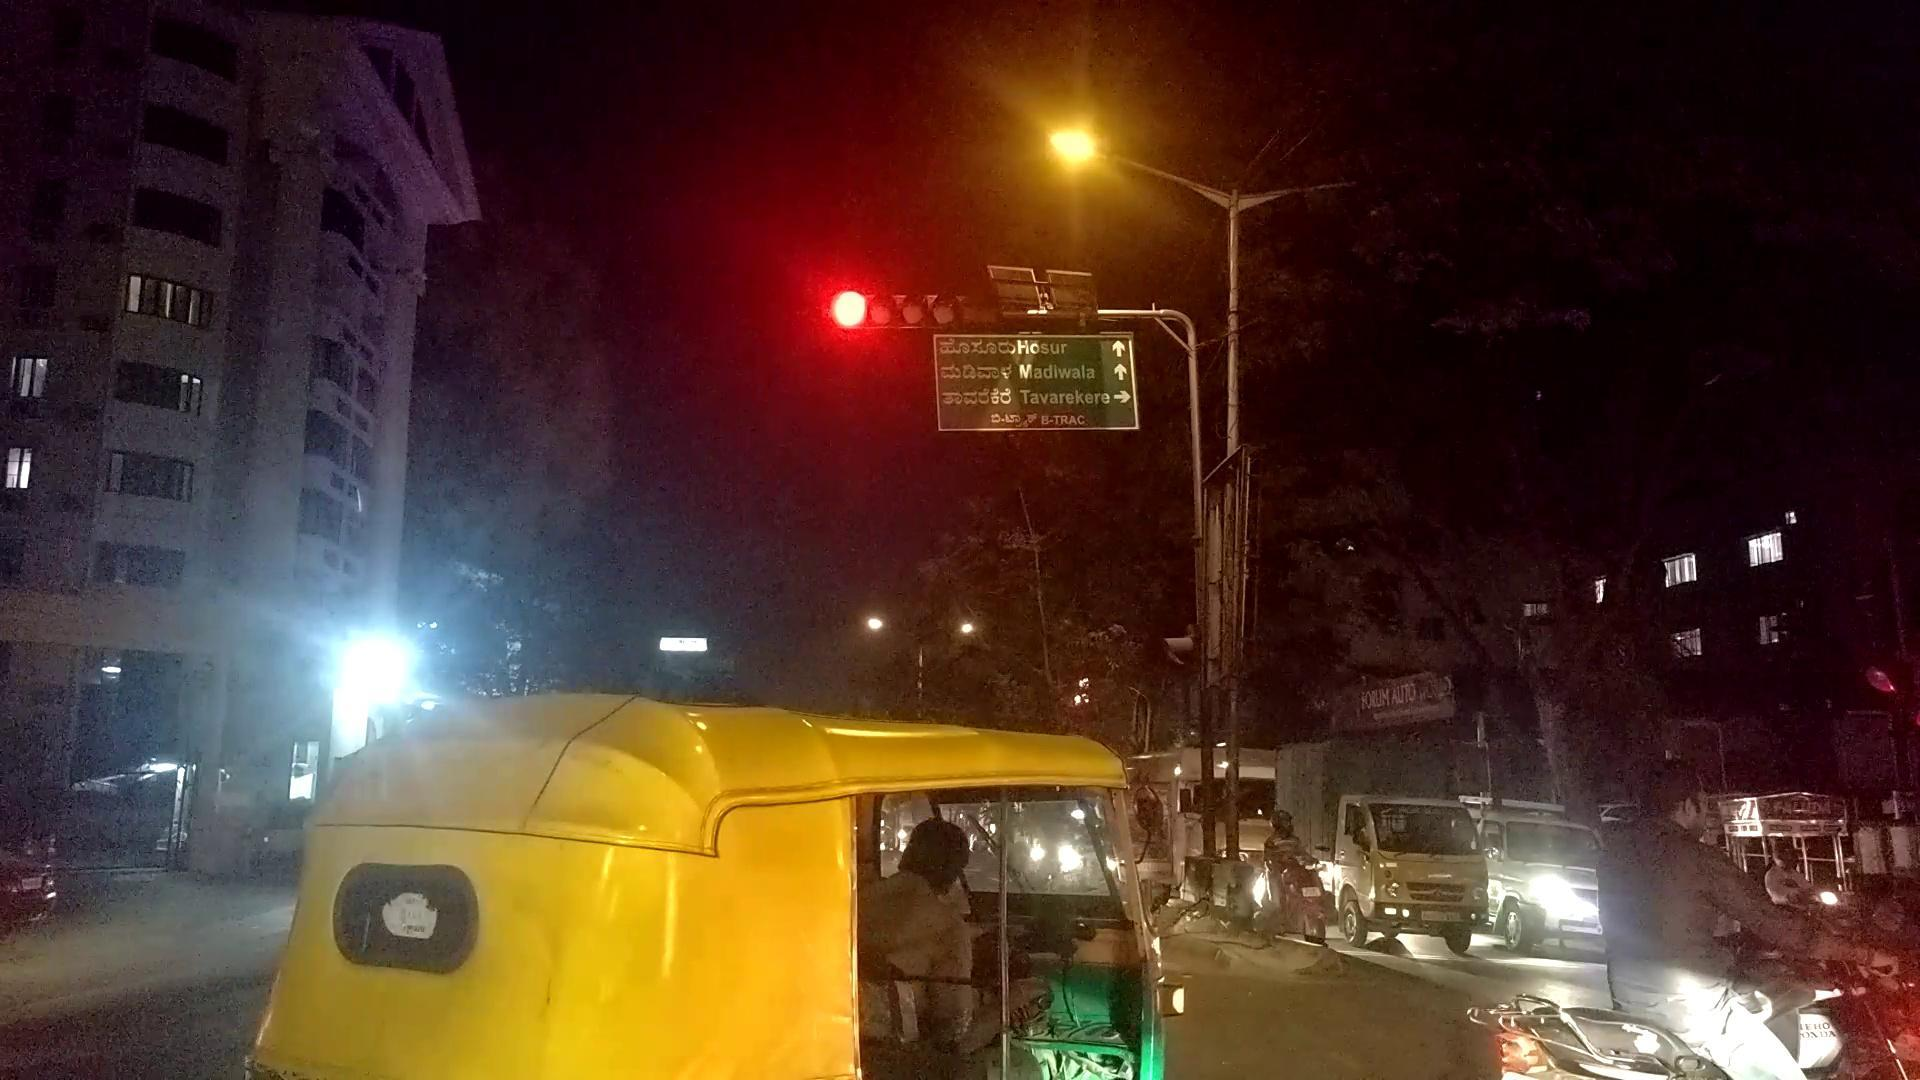on: (880, 112, 1319, 396)
